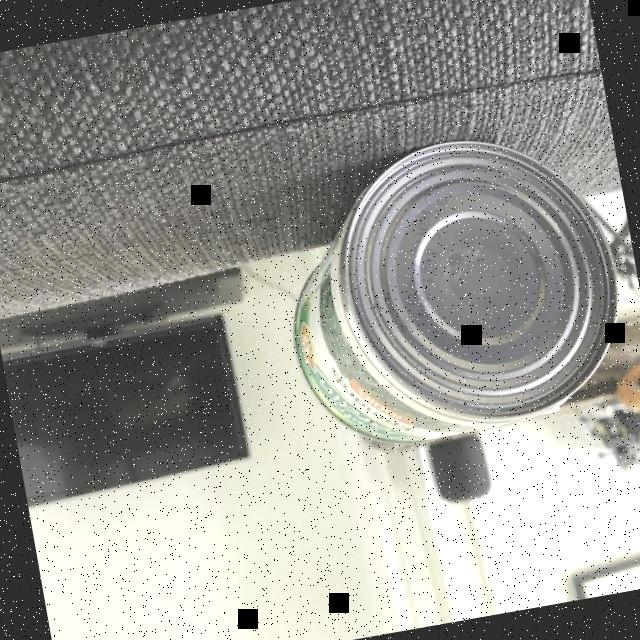can: (259, 111, 640, 469)
